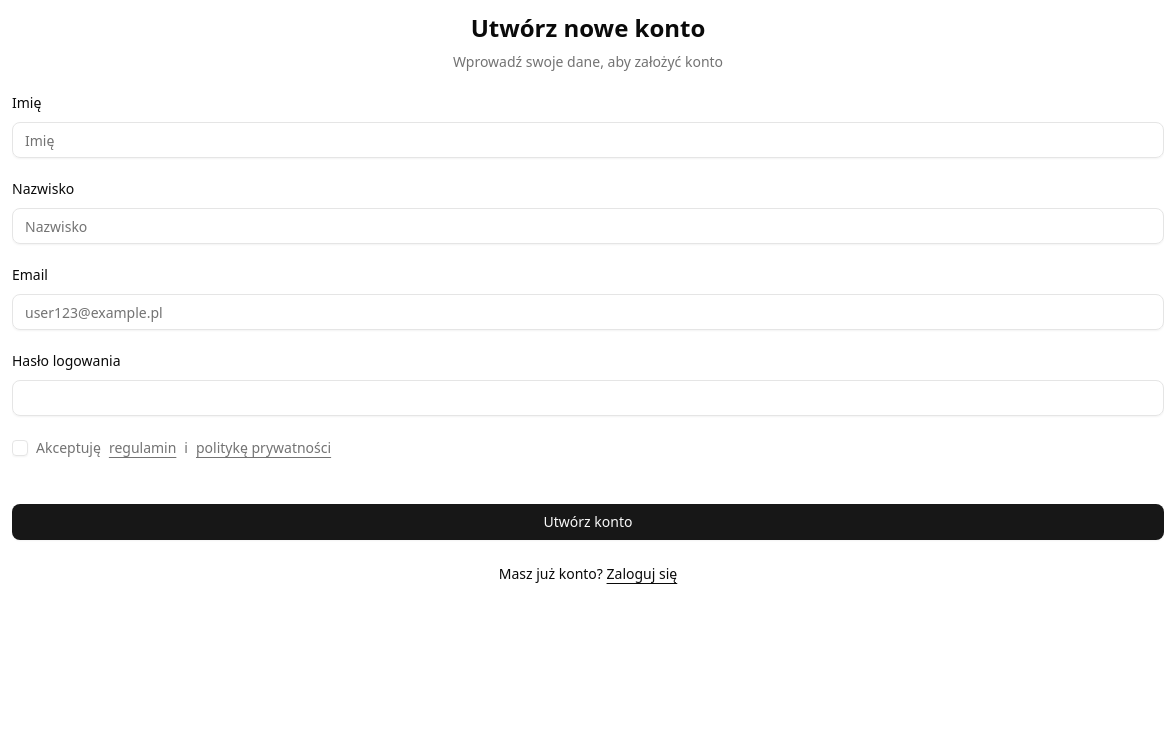
Test: RegisterForm › wyświetla błędy walidacji dla nieprawidłowego nazwiska
Type "Jan" into the field labelled "Imię" at (588, 140), box x1=12 y1=122 x2=1164 y2=158
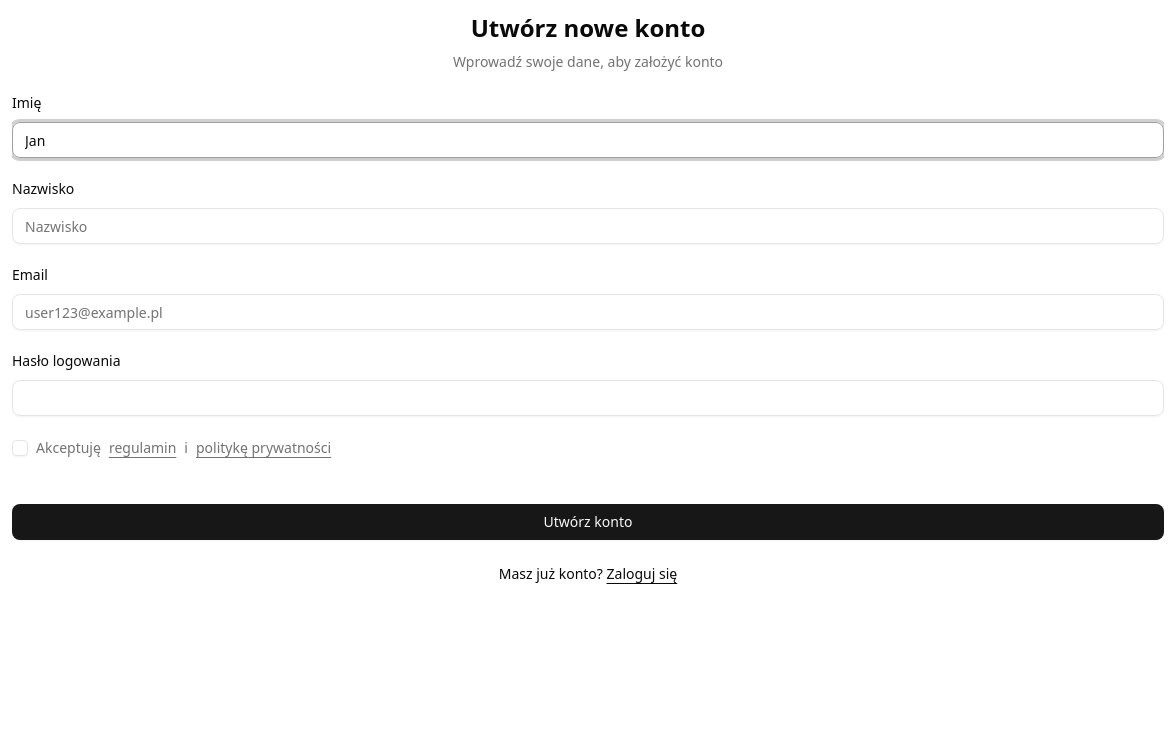
Type "Kowalski123" into the field labelled "Nazwisko" at (588, 226), box x1=12 y1=208 x2=1164 y2=244
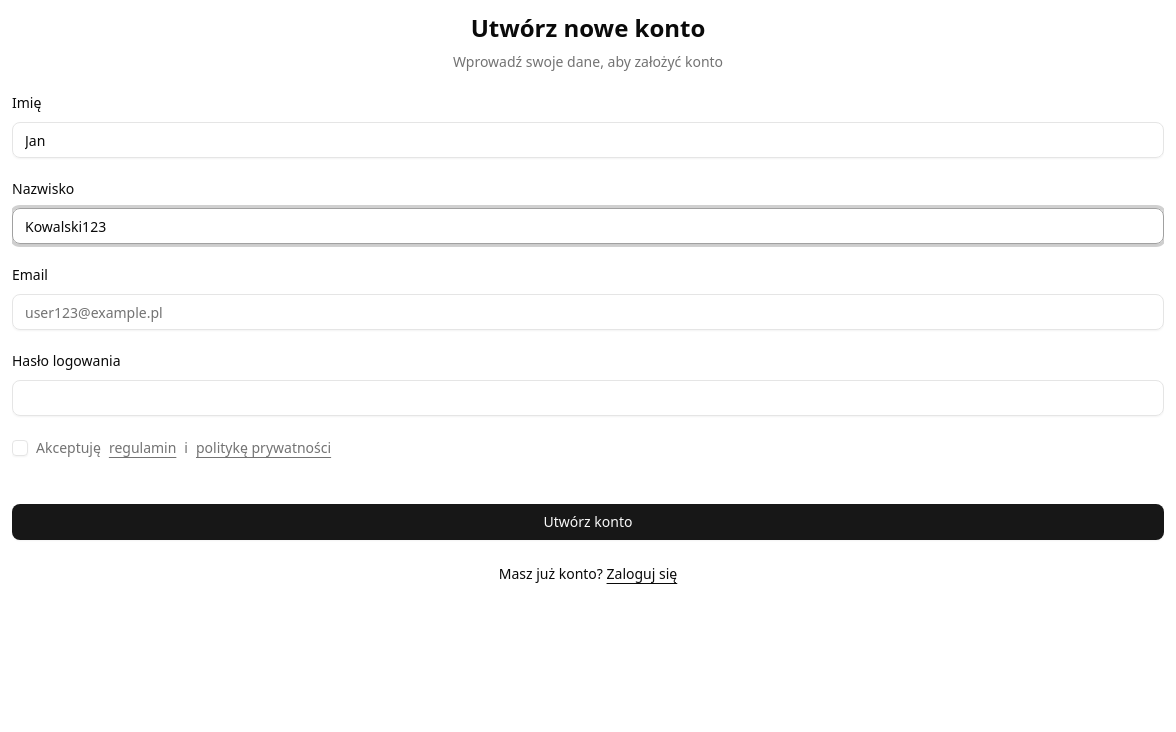
Type "test@example.com" into the field labelled "Email" at (588, 312), box x1=12 y1=294 x2=1164 y2=330
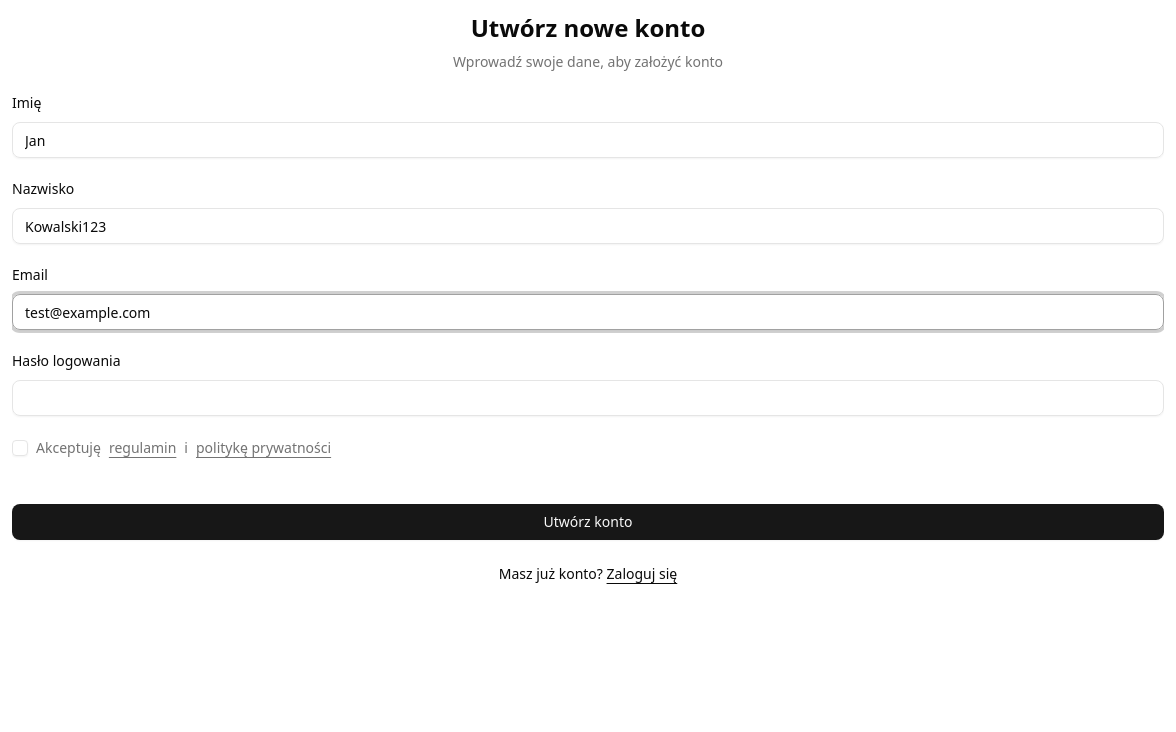
Type "Password123!" into the password field labelled "Hasło logowania" at (588, 398), box x1=12 y1=380 x2=1164 y2=416
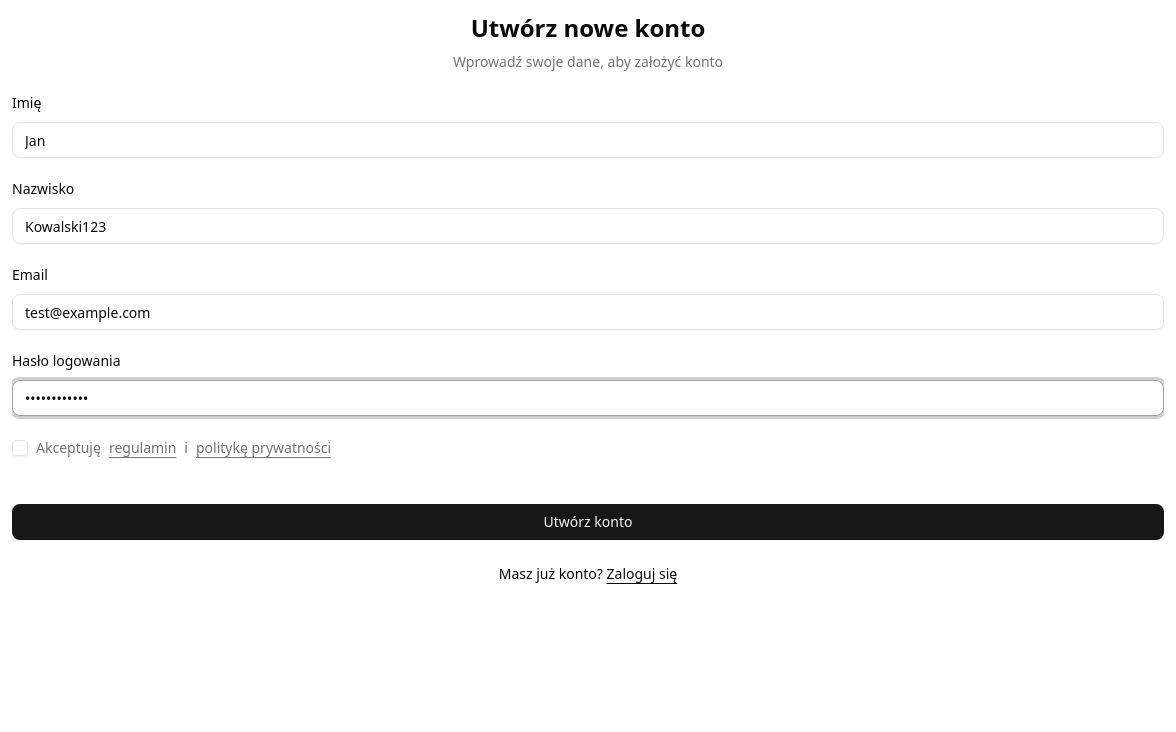
Click the button "Utwórz konto" at (588, 522), box x1=12 y1=504 x2=1164 y2=540
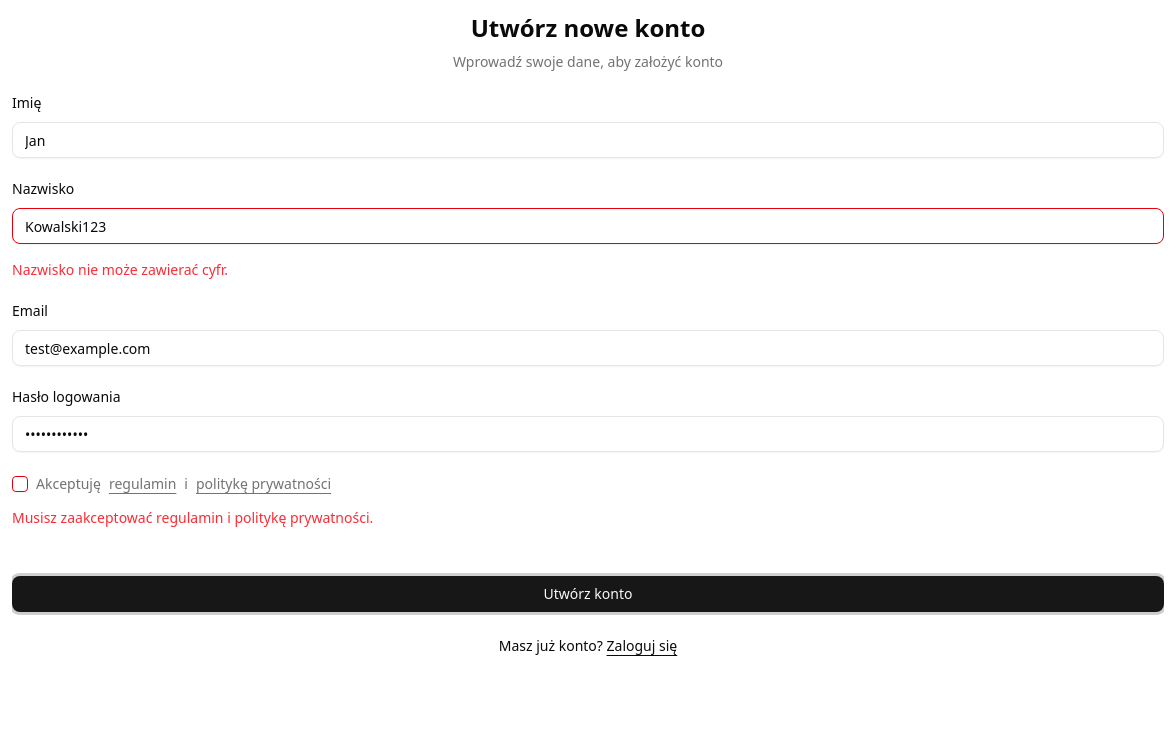
Now the text "Nazwisko nie może zawierać cyfr." is shown, box x1=12 y1=260 x2=228 y2=279
